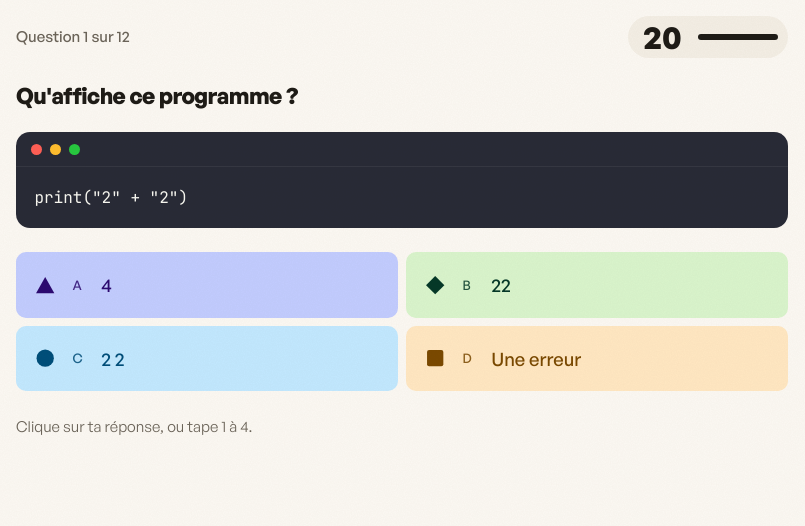
Test: EcranQuiz › montre tel quel un refus écrit pour l élève
Step 1. Click the button "A 4" → (45, 285), box [16, 252, 398, 318]
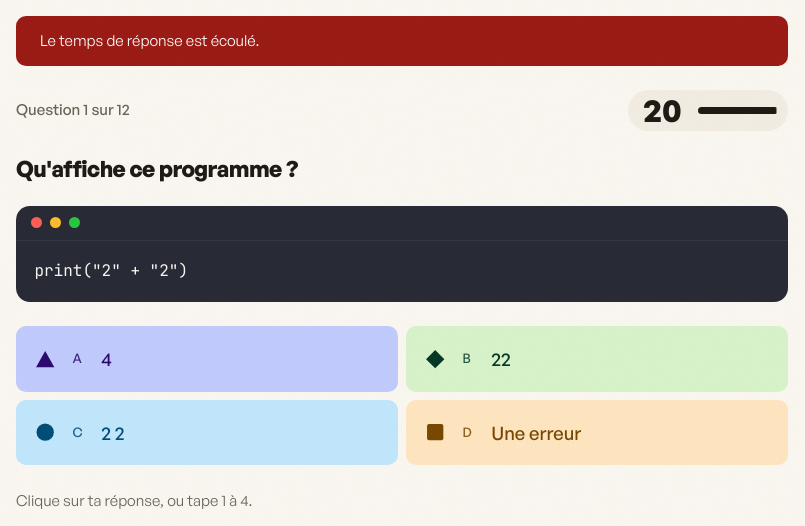
Check: the message reads "Le temps de réponse est écoulé.", box [40, 31, 259, 50]
